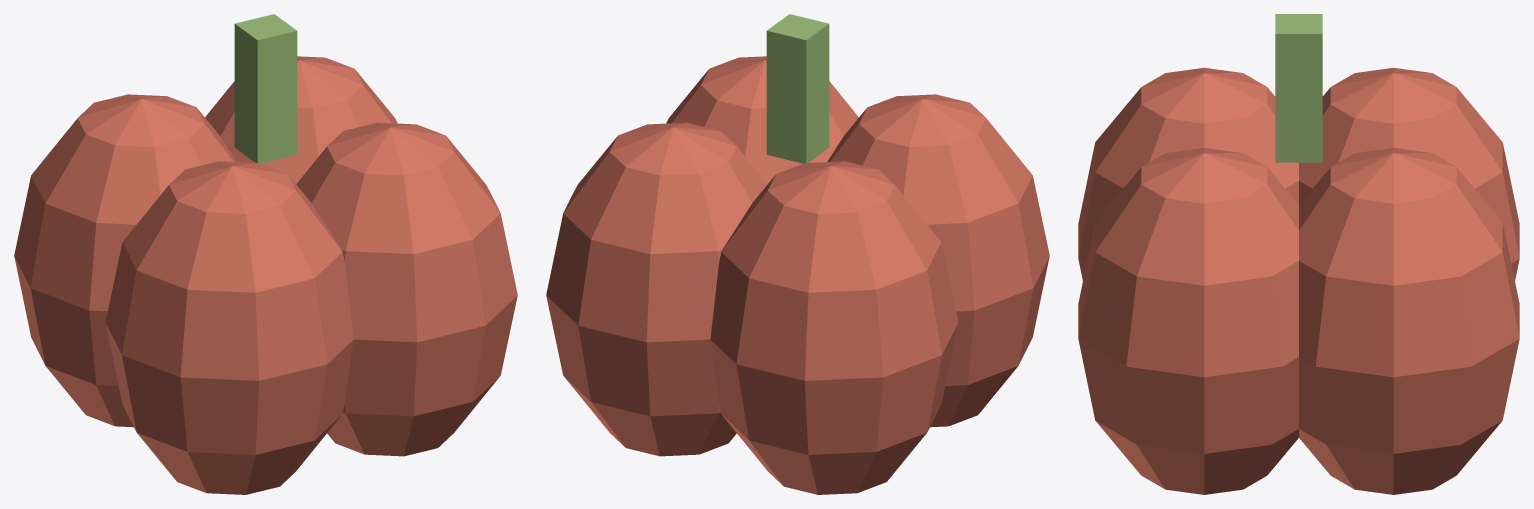
File: supermarket-operations-bell-pepper-9818c553.glb
3 renders of one model, left to right at view 1: azimuth 30°, elevation 25°; view 2: azimuth 150°, elevation 25°; view 3: azimuth 270°, elevation 25°, orthographic. The views are drawn at different scales.
Visible parts, largest first — view 1: bell-pepper; view 2: bell-pepper; view 3: bell-pepper.
Part boxes in pixels (box(x1,y1,x2,y2)): bell-pepper: box(14, 14, 517, 494); bell-pepper: box(546, 14, 1049, 494); bell-pepper: box(1078, 14, 1519, 494).
Bounding box in the file's own units: 0.096 × 0.0992 × 0.0933.
